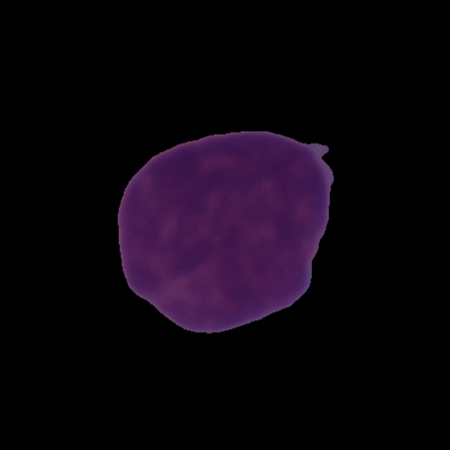ALL: (113, 126, 337, 337)
